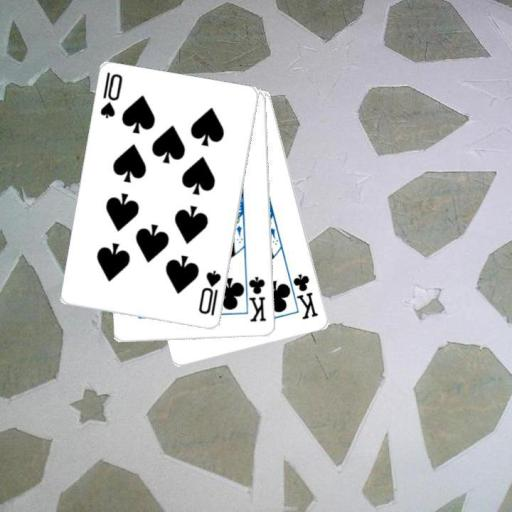10S: (196, 267, 223, 318), (97, 70, 124, 121)
KC: (284, 269, 320, 321), (242, 270, 267, 324)
